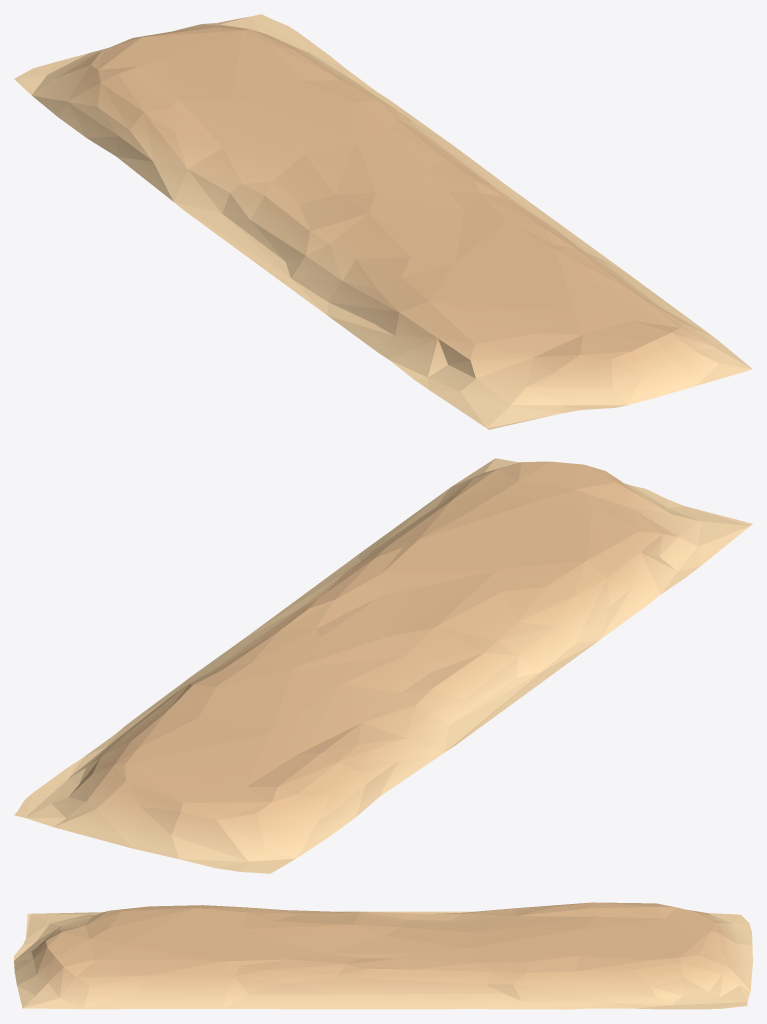
Rendered from Ground 10 M Long.glb.
3 views of the same model, one above another, from view 1: azimuth 30°, elevation 25°; view 2: azimuth 150°, elevation 25°; view 3: azimuth 270°, elevation 25° (orthographic). The views are drawn at different scales.
Parts seen in each view (by area): view 1: Ground 10 M Long; view 2: Ground 10 M Long; view 3: Ground 10 M Long.
Boxes of the visible parts, bbox=[...] form: Ground 10 M Long: bbox=[14, 14, 752, 429]; Ground 10 M Long: bbox=[14, 458, 752, 873]; Ground 10 M Long: bbox=[14, 902, 752, 1009].
Size of what is drawn, in the model's own units: 3.57 by 0.4414 by 11.42.
1 material, 1 textured.
